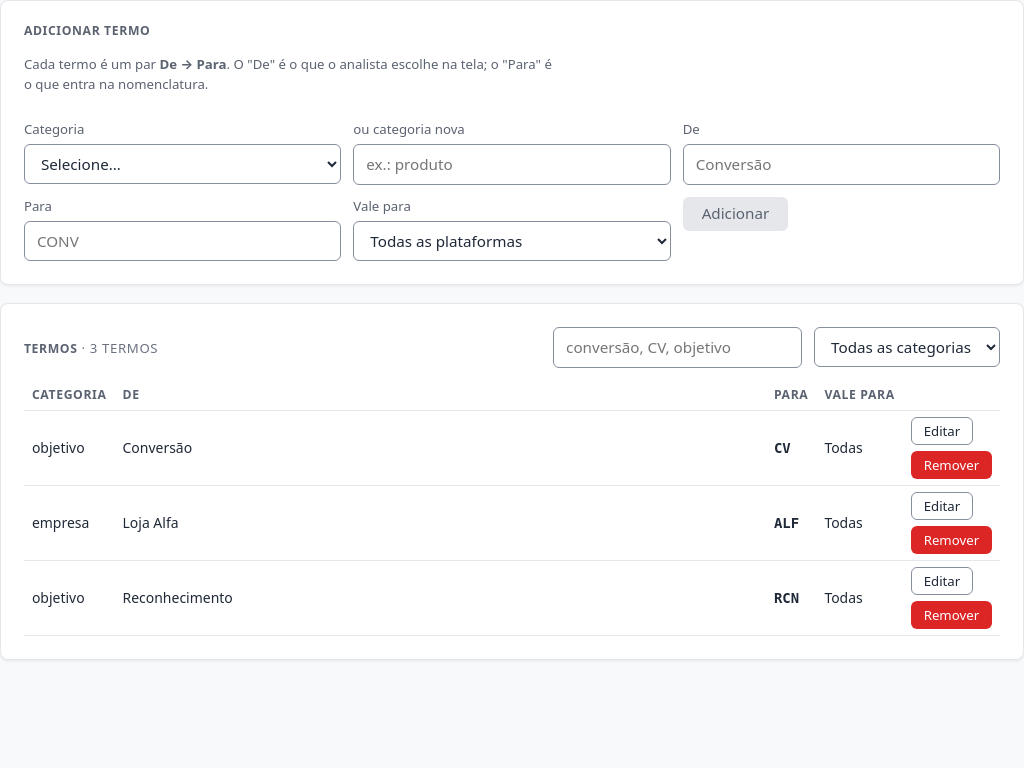
Scenario: os três estados vazios › `Cadastrar "X"` preenche o campo De sem redigitar
Expected: the text "Conversão" is shown, [114,411,766,486]
Type "guarda-chuva" into the search field named "Buscar termo" at coordinates (678, 348), box [553,327,802,368]
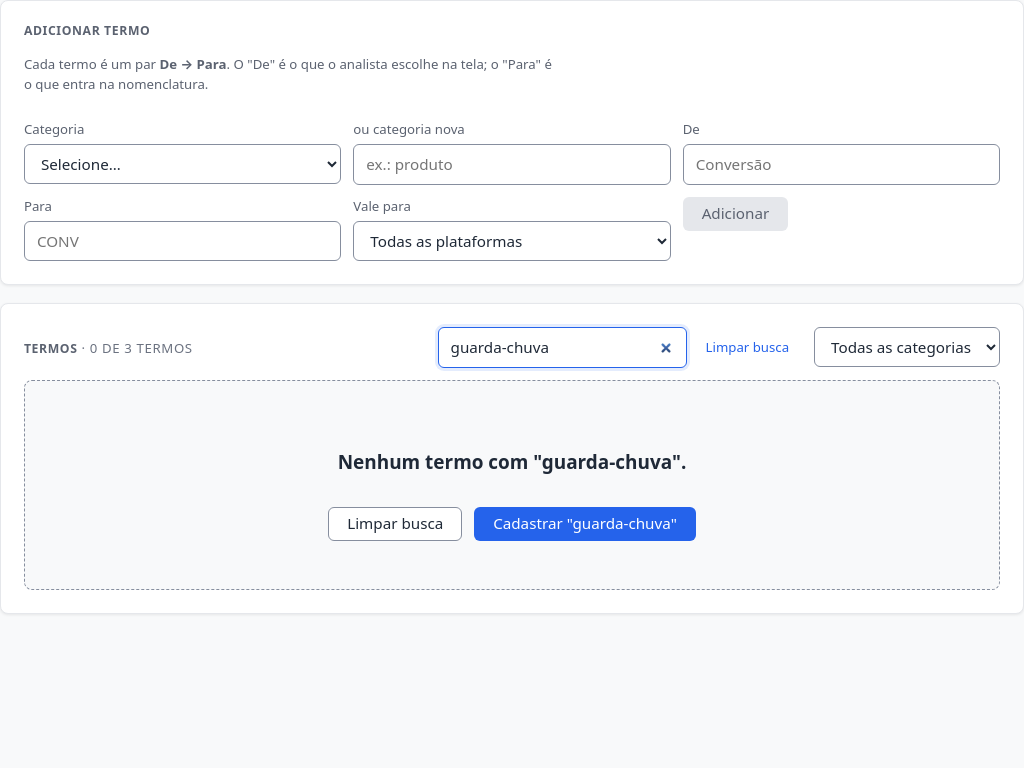
Click the button "Cadastrar \"guarda-chuva\"" at coordinates (585, 524), box [474,507,696,541]
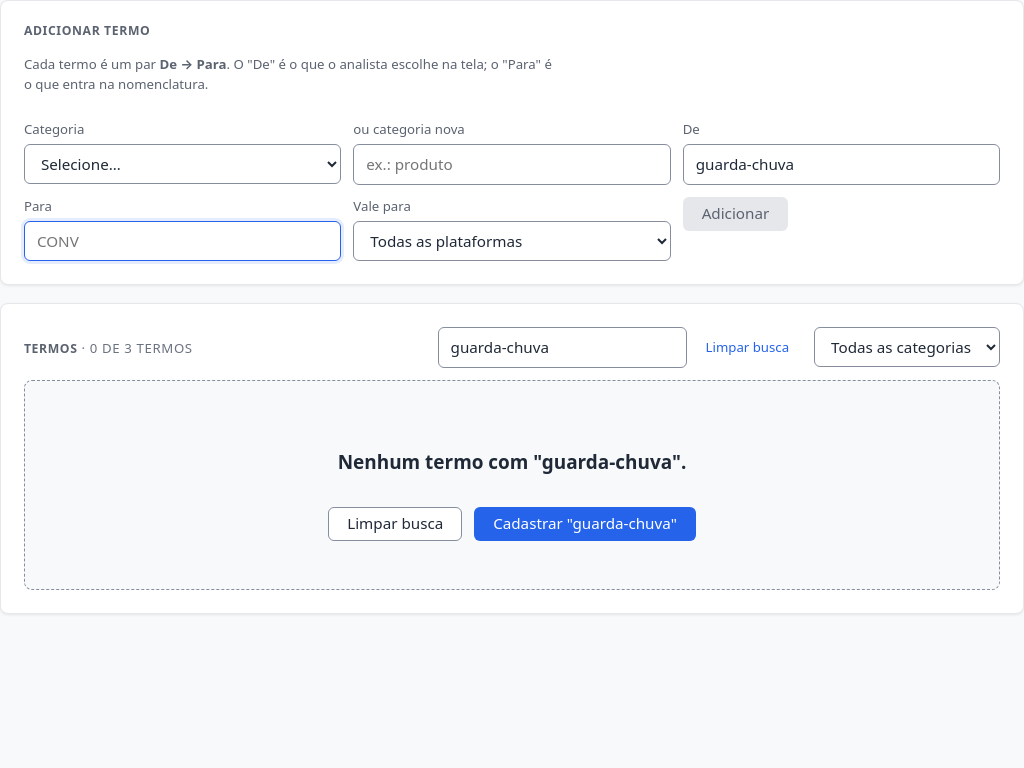
Now the field labelled "De" holds "guarda-chuva", box [683,144,1000,185]
